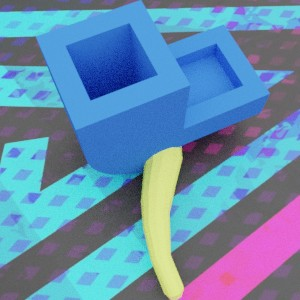lego: (35, 0, 269, 174), (115, 53, 183, 299)
